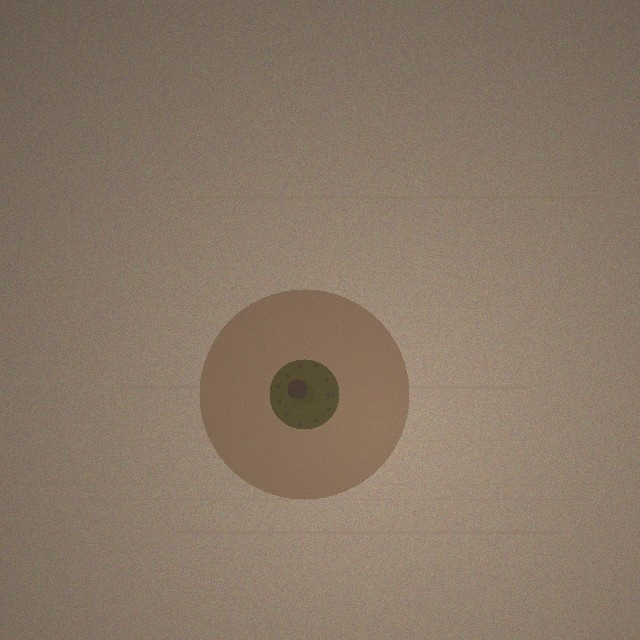cold_weld: (199, 289, 409, 499)
